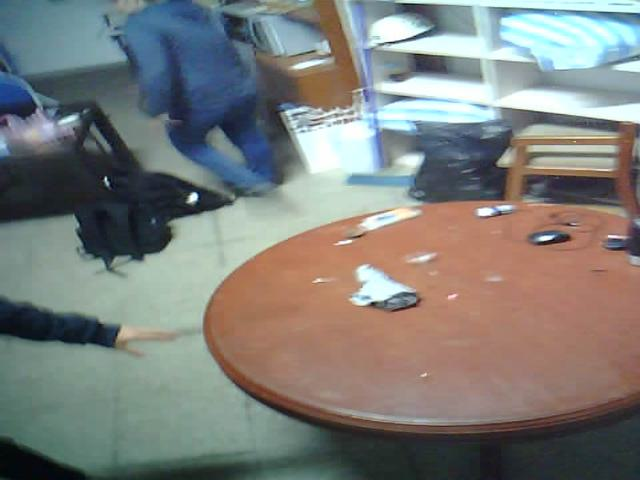person: (86, 0, 310, 207)
